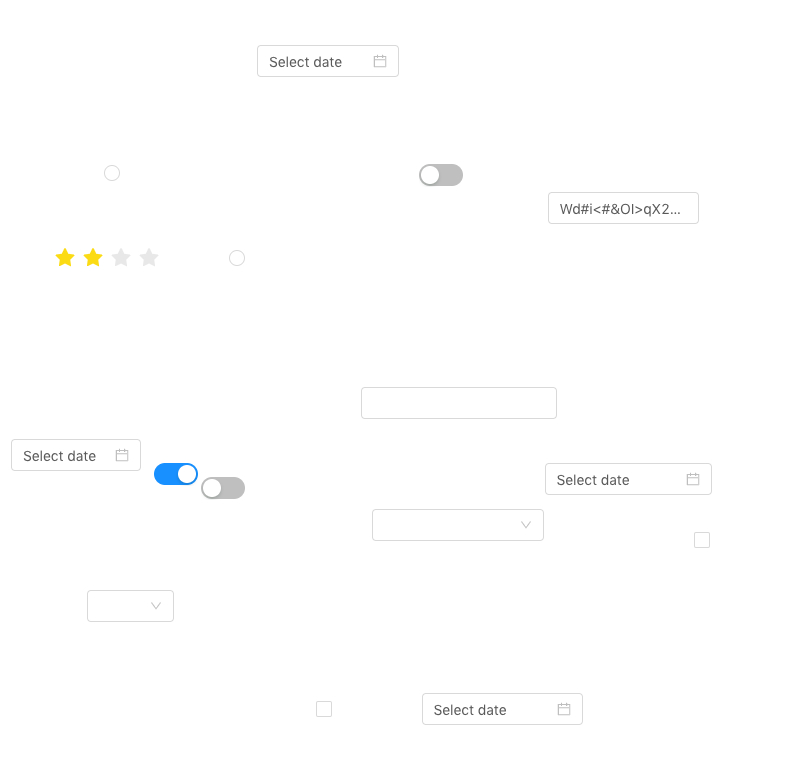Checkbox: (694, 529, 710, 550), (316, 698, 332, 719)
DatePicker: (545, 463, 712, 495), (422, 693, 583, 725), (257, 45, 399, 77), (11, 439, 141, 471)
Input: (361, 387, 557, 419), (548, 192, 699, 224)
Radio: (229, 247, 245, 267), (104, 162, 120, 182)
Rate: (55, 241, 175, 273)
Select: (372, 509, 544, 541), (87, 590, 174, 622)
Switch: (201, 476, 245, 500), (154, 462, 198, 486), (419, 163, 463, 187)
